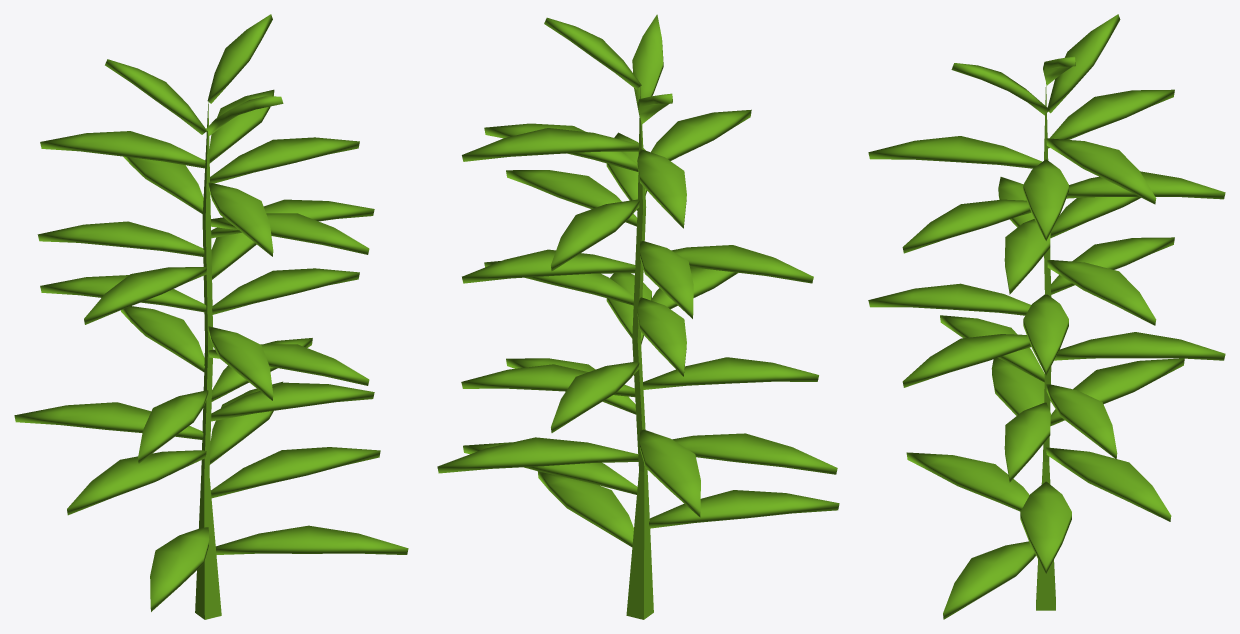
The model's file is Houseplant03.fbx.
The picture shows the model from 3 angles, left to right: view 1: azimuth 30°, elevation 25°; view 2: azimuth 150°, elevation 25°; view 3: azimuth 270°, elevation 25°; orthographic projection. The views are drawn at different scales.
Parts seen in each view (by area): view 1: Plant2; view 2: Plant2; view 3: Plant2.
Boxes of the visible parts, x1,y1,x2,y2 form: Plant2: (14, 14, 408, 619); Plant2: (437, 14, 839, 619); Plant2: (868, 14, 1225, 619).
Bounding box in the file's own units: 51.37 × 82.78 × 45.69.
